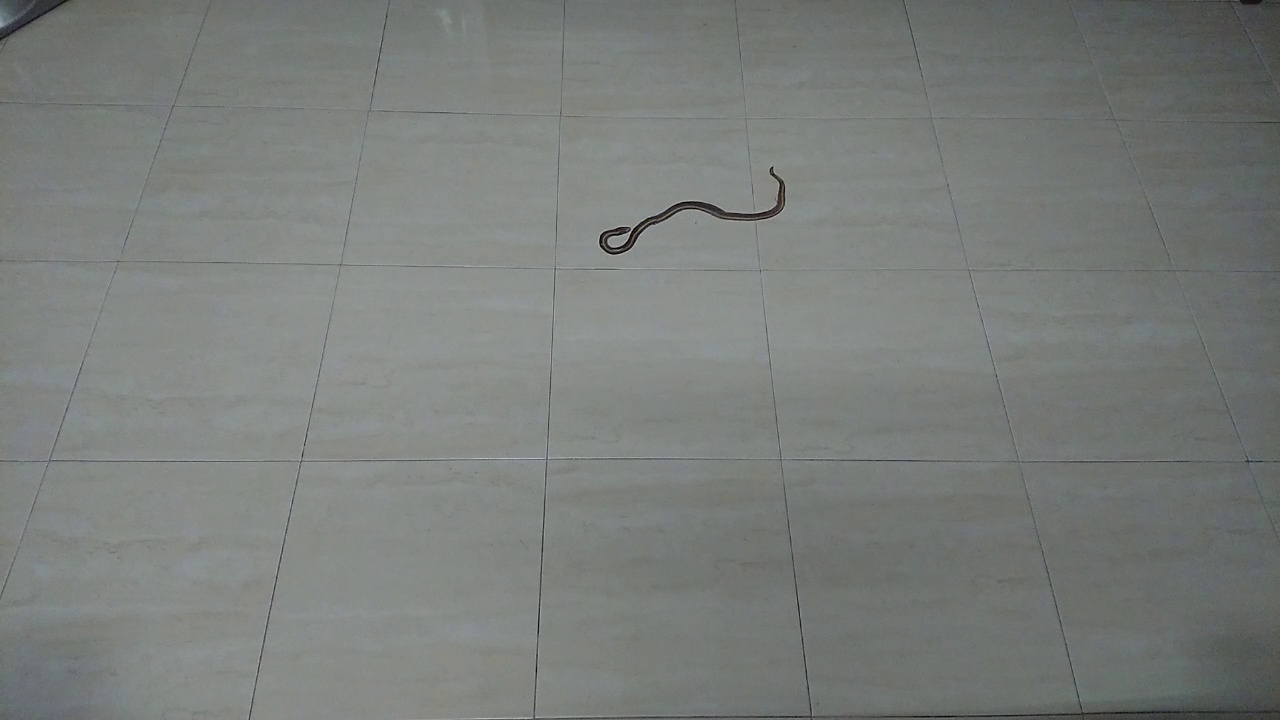snake: (583, 154, 795, 270)
